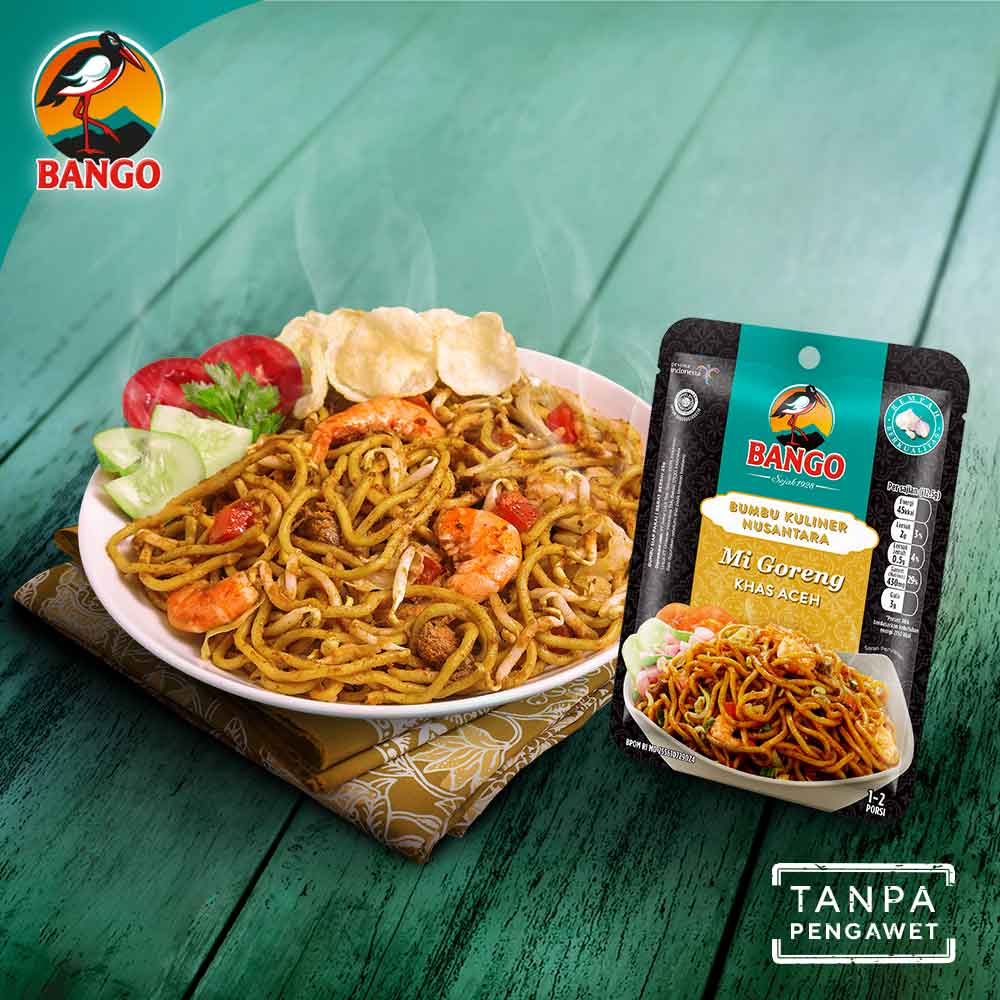Mie: (190, 361, 624, 730)
